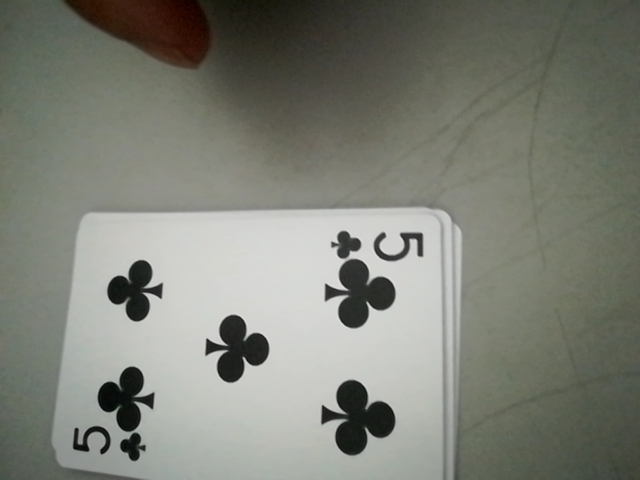mh 5: (328, 223, 432, 265), (65, 423, 150, 466)
